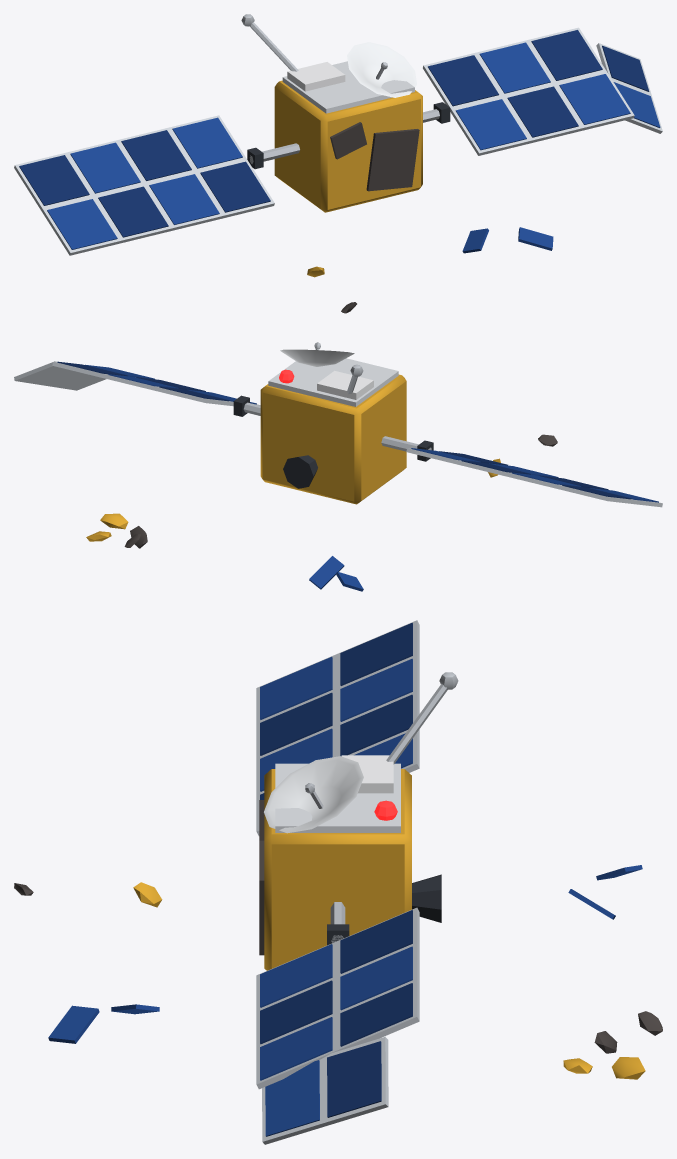
File: debris_satellite.glb
The picture shows the model from 3 angles, top to bottom: view 1: azimuth 30°, elevation 25°; view 2: azimuth 150°, elevation 25°; view 3: azimuth 270°, elevation 25°; orthographic projection. The views are drawn at different scales.
Visible parts, largest first — view 1: panels, body; view 2: body, panels; view 3: panels, body.
Boxes of the visible parts, x1,y1,x2,y2 form: panels: [14, 27, 662, 255]; body: [241, 14, 553, 313]; body: [86, 342, 557, 591]; panels: [14, 361, 662, 507]; panels: [256, 620, 419, 1144]; body: [14, 672, 662, 1079].
Size of the model in its own units: 277 by 79.74 by 176.
